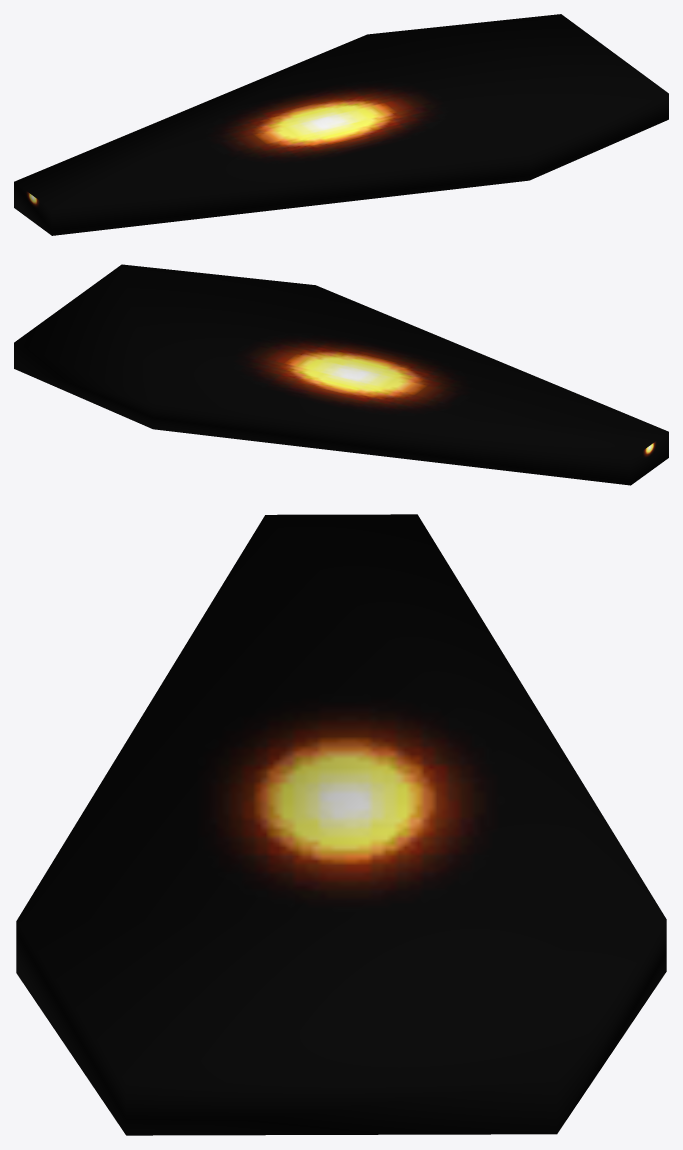
Rendered from 0415_shibei02.glb.
3 views of the same model, one above another, from view 1: azimuth 30°, elevation 25°; view 2: azimuth 150°, elevation 25°; view 3: azimuth 270°, elevation 25° (orthographic). The views are drawn at different scales.
Bounding box in the file's own units: 2.2 × 0.0978 × 1.06.
1 material, 1 textured.
